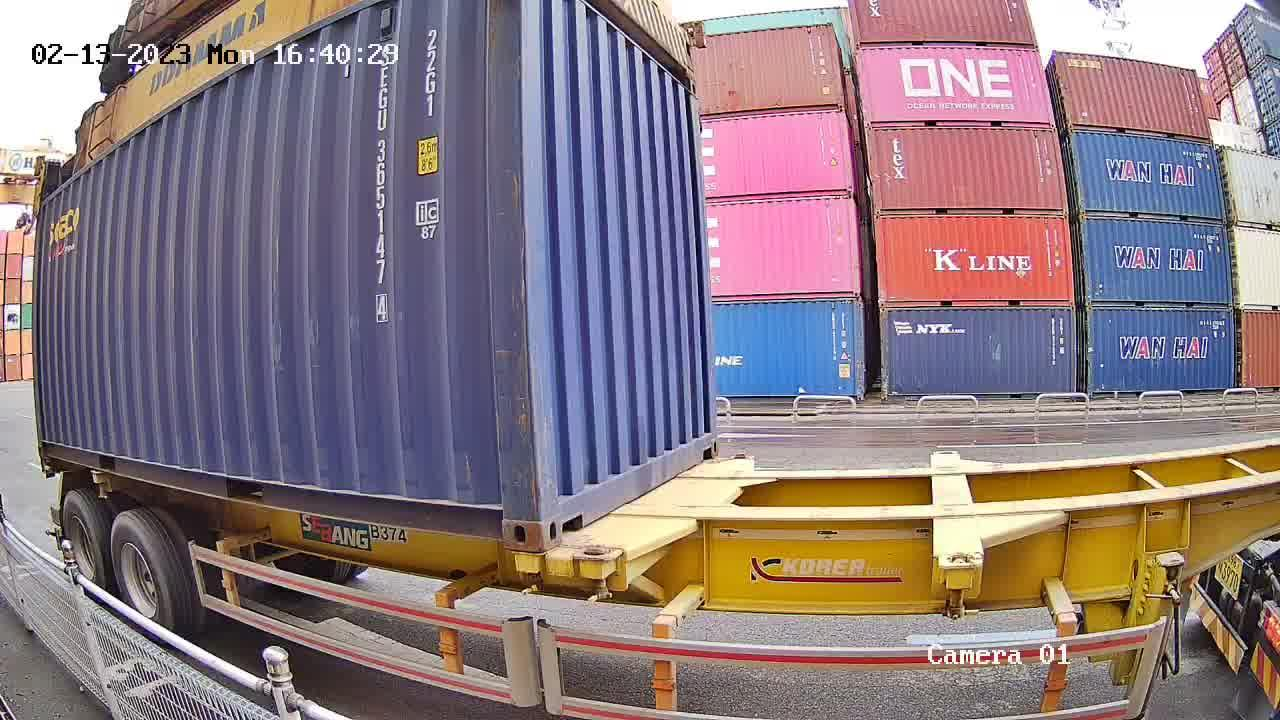Chassis: (577, 455, 753, 561)
Cone: (578, 549, 621, 604), (509, 552, 545, 595)
Hole_L: (536, 473, 589, 553)
Hole_R: (470, 488, 540, 553), (695, 419, 718, 462)
Tire: (111, 515, 173, 639), (61, 493, 107, 593)
